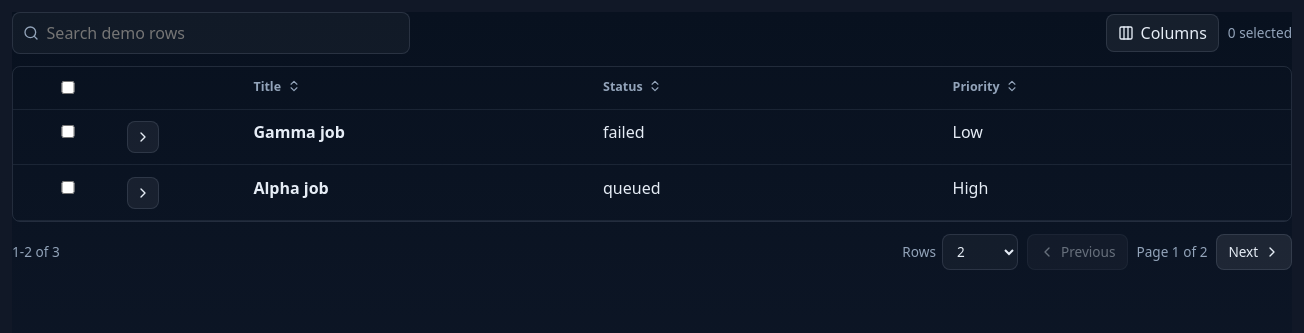
it: ConsoleTable › supports selectable rows and expandable details
This screenshot has width=1304, height=333.
Expected: the text "0 selected" is shown, [1228, 23, 1292, 42]
Step 1. Click the checkbox named "Select row gamma" → (68, 132), box [28, 125, 108, 138]
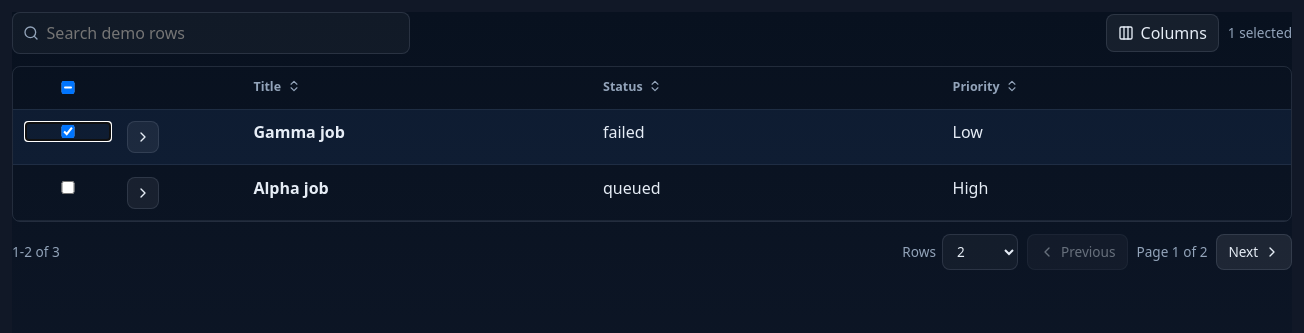
Result: the text "1 selected" is shown at [1228, 23, 1292, 42]
Step 2. Click the button named "Expand row" next to "Gamma job" → (143, 137), box [127, 121, 159, 153]
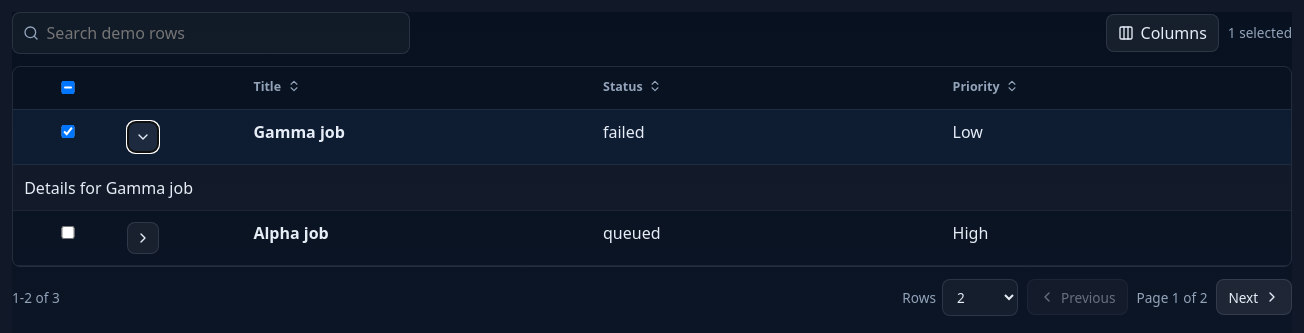
Result: the text "Details for Gamma job" is shown at [24, 176, 193, 198]
Step 3. Click the button named "Collapse row" → (143, 137), box [127, 121, 159, 153]
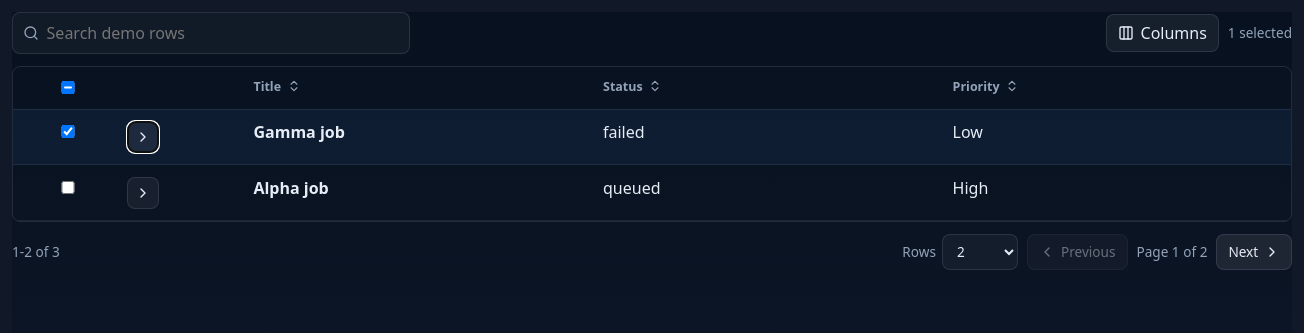
Result: the text "Details for Gamma job" is gone
